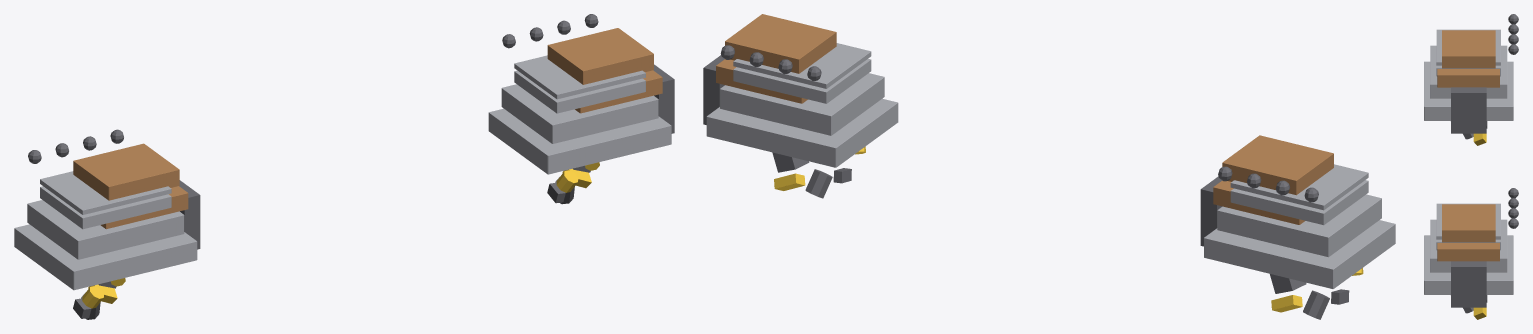
File: shoulders-bruiser2.glb
3 views of the same model, side by side, from view 1: azimuth 30°, elevation 25°; view 2: azimuth 150°, elevation 25°; view 3: azimuth 270°, elevation 25° (orthographic). The views are drawn at different scales.
Parts seen in each view (by area): view 1: plate0_l, plate0.002_r, plate1_l, plate1.002_r, plate1.003_r, plate1.001_l, plate2_l, plate2_r, plate0.003_r, ventwell_r, plate0.001_l, ventwell_l; view 2: plate0_l, plate0.002_r, plate1_l, plate1.002_r, plate2_r, plate2_l, plate1.001_l, plate1.003_r, plate0.003_r, plate0.001_l, ventwell_r, ventwell_l (+2 smaller); view 3: plate1.001_l, plate1.003_r, plate0_l, plate0.002_r, ventwell_l, ventwell_r, plate0.001_l, plate0.003_r, plate1_l, plate1.002_r, plate2_r, plate2_l (+10 smaller).
Part boxes in pixels (left/top/right/bottom): plate0_l: left=488, top=108, right=671, bottom=174; plate0.002_r: left=14, top=224, right=197, bottom=290; plate1_l: left=501, top=84, right=658, bottom=143; plate1.002_r: left=27, top=200, right=184, bottom=259; plate1.003_r: left=73, top=143, right=179, bottom=200; plate1.001_l: left=547, top=28, right=653, bottom=84; plate2_l: left=514, top=55, right=645, bottom=113; plate2_r: left=40, top=171, right=171, bottom=229; plate0.003_r: left=100, top=186, right=188, bottom=229; ventwell_r: left=179, top=180, right=200, bottom=249; plate0.001_l: left=575, top=70, right=662, bottom=113; ventwell_l: left=653, top=64, right=674, bottom=133; plate0_l: left=706, top=98, right=898, bottom=167; plate0.002_r: left=1204, top=220, right=1395, bottom=288; plate1_l: left=720, top=73, right=884, bottom=135; plate1.002_r: left=1217, top=194, right=1381, bottom=257; plate2_r: left=1230, top=164, right=1368, bottom=225; plate2_l: left=733, top=43, right=871, bottom=103; plate1.001_l: left=725, top=14, right=836, bottom=73; plate1.003_r: left=1222, top=135, right=1333, bottom=195; plate0.003_r: left=1213, top=180, right=1305, bottom=224; plate0.001_l: left=716, top=59, right=807, bottom=103; ventwell_r: left=1200, top=176, right=1222, bottom=246; ventwell_l: left=703, top=55, right=724, bottom=124; plate1.001_l: left=1442, top=204, right=1495, bottom=242; plate1.003_r: left=1442, top=30, right=1495, bottom=68; plate0_l: left=1424, top=235, right=1513, bottom=294; plate0.002_r: left=1424, top=61, right=1513, bottom=120; ventwell_l: left=1451, top=261, right=1486, bottom=307; ventwell_r: left=1451, top=87, right=1486, bottom=133; plate0.001_l: left=1437, top=243, right=1499, bottom=261; plate0.003_r: left=1437, top=69, right=1499, bottom=87; plate1_l: left=1430, top=219, right=1507, bottom=272; plate1.002_r: left=1430, top=45, right=1507, bottom=98; plate2_r: left=1436, top=29, right=1500, bottom=76; plate2_l: left=1436, top=203, right=1500, bottom=250.
Bounding box in the file's own units: 1.2 × 0.2829 × 0.212.
